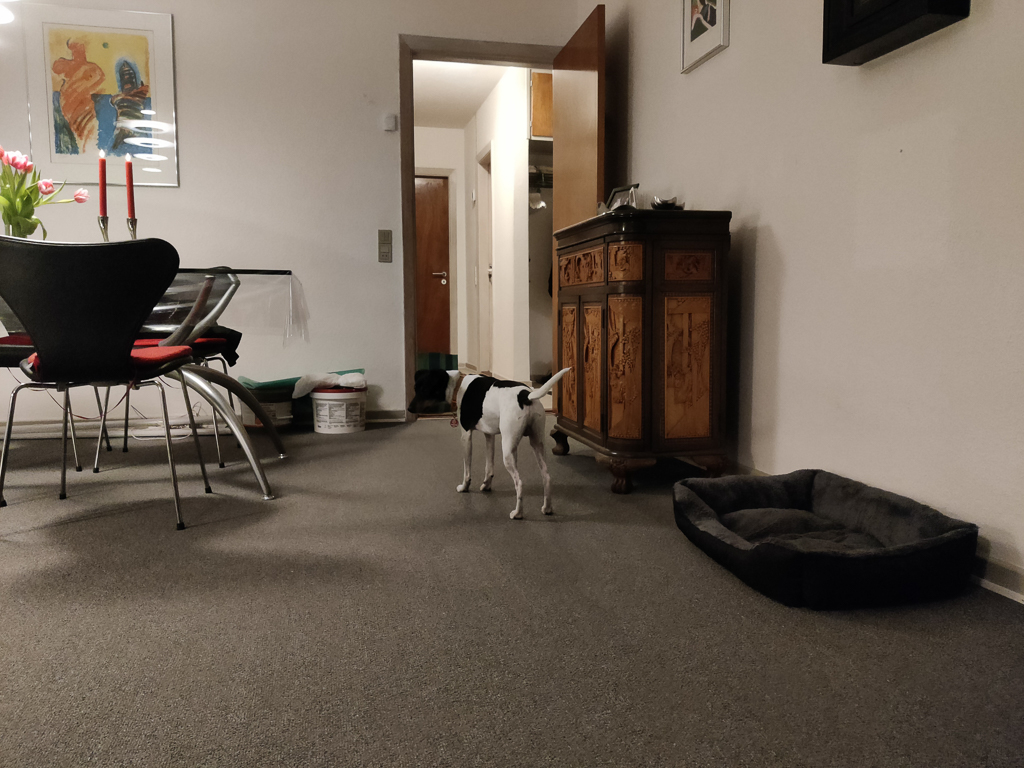Dog: (404, 355, 579, 523)
